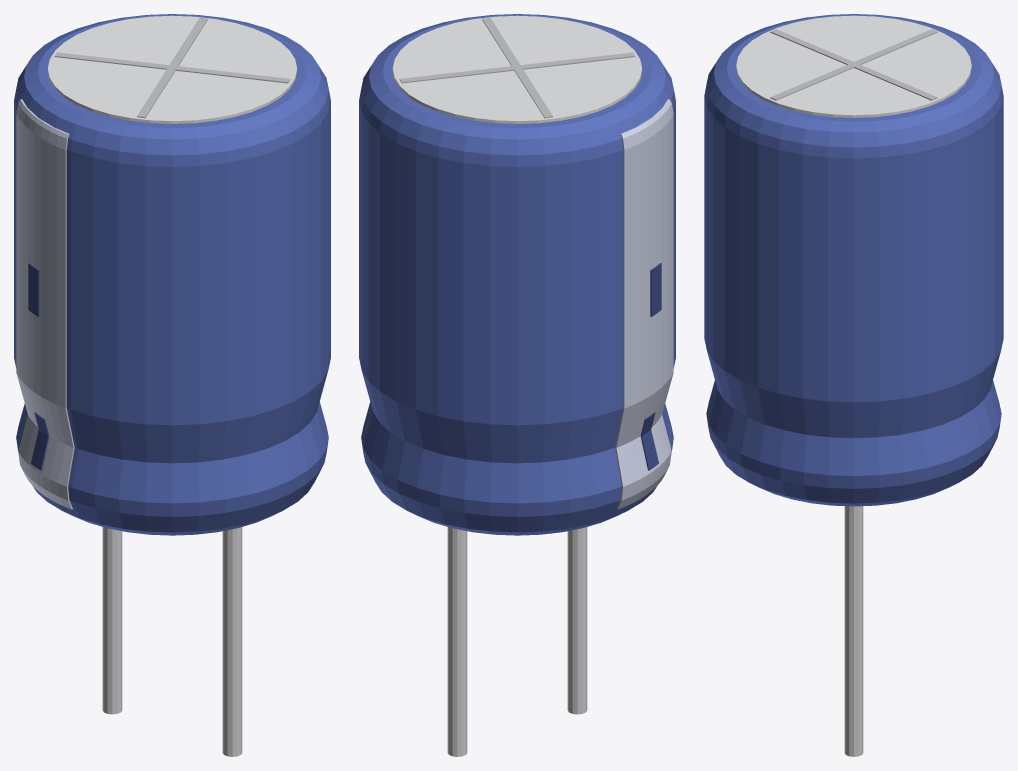
The model's file is Capacitor_Electrolitico_Azul.glb.
The picture shows the model from 3 angles, left to right: view 1: azimuth 30°, elevation 25°; view 2: azimuth 150°, elevation 25°; view 3: azimuth 270°, elevation 25°; orthographic projection. The views are drawn at different scales.
Visible parts, largest first — view 1: Cuerpo_Camisa_Azul, Tapa_Aluminio_Superior, Franja_Negativa, Pata_Positiva, Pata_Negativa, Ranura_Ventilacion_X, Marca_Negativa_2, Marca_Negativa_1; view 2: Cuerpo_Camisa_Azul, Tapa_Aluminio_Superior, Franja_Negativa, Pata_Positiva, Pata_Negativa, Ranura_Ventilacion_X, Marca_Negativa_2, Marca_Negativa_1; view 3: Cuerpo_Camisa_Azul, Tapa_Aluminio_Superior, Pata_Positiva, Ranura_Ventilacion_X.
Part boxes in pixels (<box>): Cuerpo_Camisa_Azul: <box>14,14,330,535</box>; Tapa_Aluminio_Superior: <box>47,15,297,123</box>; Franja_Negativa: <box>16,99,74,509</box>; Pata_Positiva: <box>222,527,242,756</box>; Pata_Negativa: <box>102,527,122,714</box>; Ranura_Ventilacion_X: <box>54,17,290,118</box>; Marca_Negativa_2: <box>31,412,49,470</box>; Marca_Negativa_1: <box>28,263,39,316</box>; Cuerpo_Camisa_Azul: <box>359,14,675,535</box>; Tapa_Aluminio_Superior: <box>392,15,642,123</box>; Franja_Negativa: <box>615,99,673,509</box>; Pata_Positiva: <box>447,527,467,756</box>; Pata_Negativa: <box>567,527,587,714</box>; Ranura_Ventilacion_X: <box>399,17,635,118</box>; Marca_Negativa_2: <box>640,412,658,470</box>; Marca_Negativa_1: <box>650,263,661,316</box>; Cuerpo_Camisa_Azul: <box>704,14,1003,506</box>; Tapa_Aluminio_Superior: <box>736,15,971,117</box>; Pata_Positiva: <box>844,506,863,756</box>; Ranura_Ventilacion_X: <box>770,29,937,100</box>.
Bounding box in the file's own units: 0.00807 × 0.0195 × 0.008.
